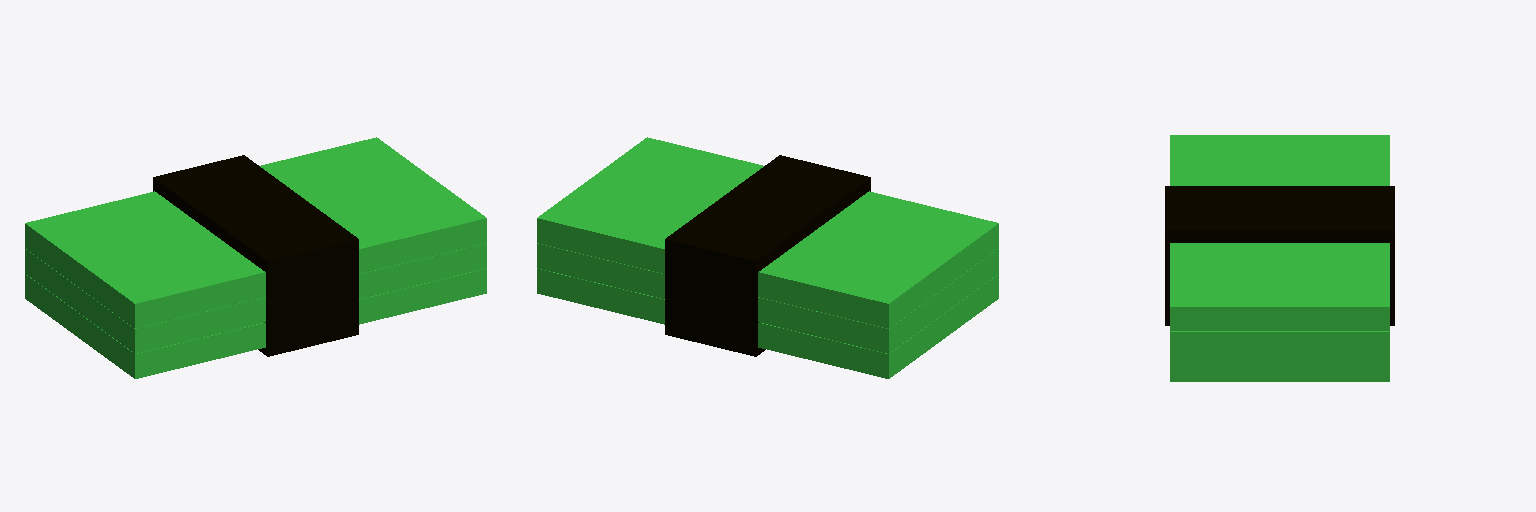
File: money.obj
3 views of the same model, side by side, from view 1: azimuth 30°, elevation 25°; view 2: azimuth 150°, elevation 25°; view 3: azimuth 270°, elevation 25° (orthographic).
Visible parts, largest first — view 1: Money3, Cube, Money, Money2; view 2: Money3, Cube, Money, Money2; view 3: Money3, Cube, Money2, Money.
Boxes of the visible parts, x1=… form: Money3: x1=25, y1=137, x2=486, y2=328; Cube: x1=153, y1=155, x2=358, y2=356; Money: x1=25, y1=268, x2=486, y2=378; Money2: x1=25, y1=243, x2=486, y2=353; Money3: x1=537, y1=137, x2=998, y2=328; Cube: x1=665, y1=155, x2=870, y2=356; Money: x1=537, y1=268, x2=998, y2=378; Money2: x1=537, y1=243, x2=998, y2=353; Money3: x1=1170, y1=135, x2=1389, y2=330; Cube: x1=1165, y1=186, x2=1394, y2=325; Money2: x1=1170, y1=331, x2=1389, y2=356; Money: x1=1170, y1=357, x2=1389, y2=381.
Bounding box in the file's own units: 7.71 × 2 × 4.36.